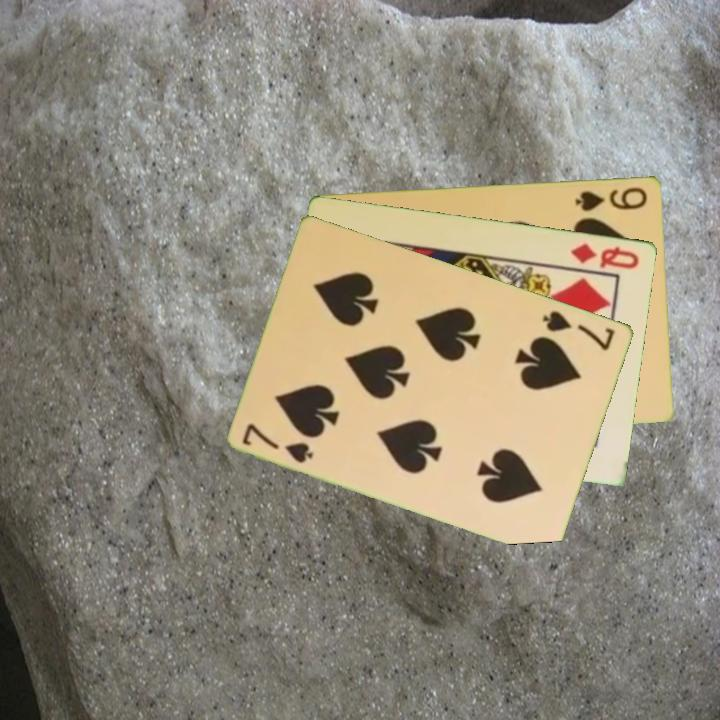7s: (239, 419, 317, 466), (539, 307, 618, 353)
9s: (572, 183, 651, 214)
Qd: (567, 239, 643, 272)
